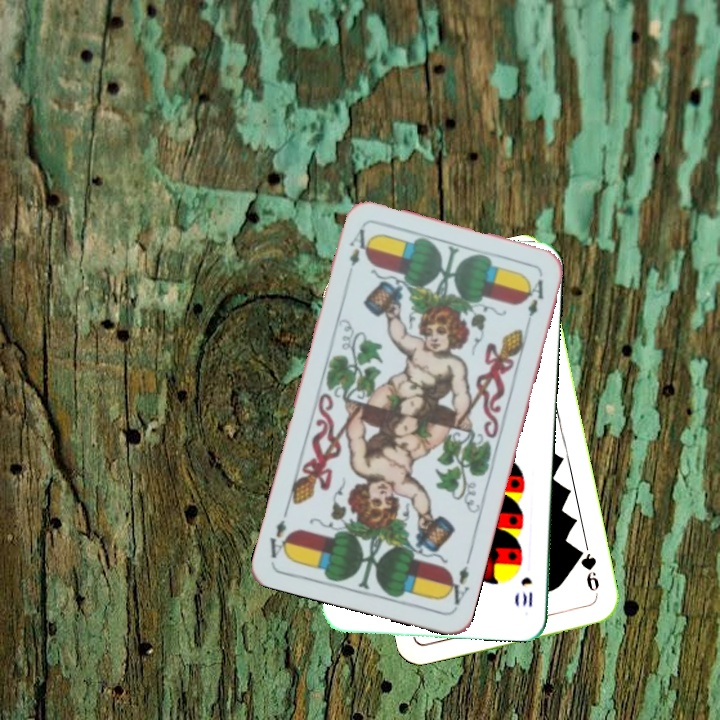EA: (441, 561, 472, 610), (345, 224, 372, 269)
G9: (573, 544, 602, 601)
S10: (516, 573, 535, 610)
